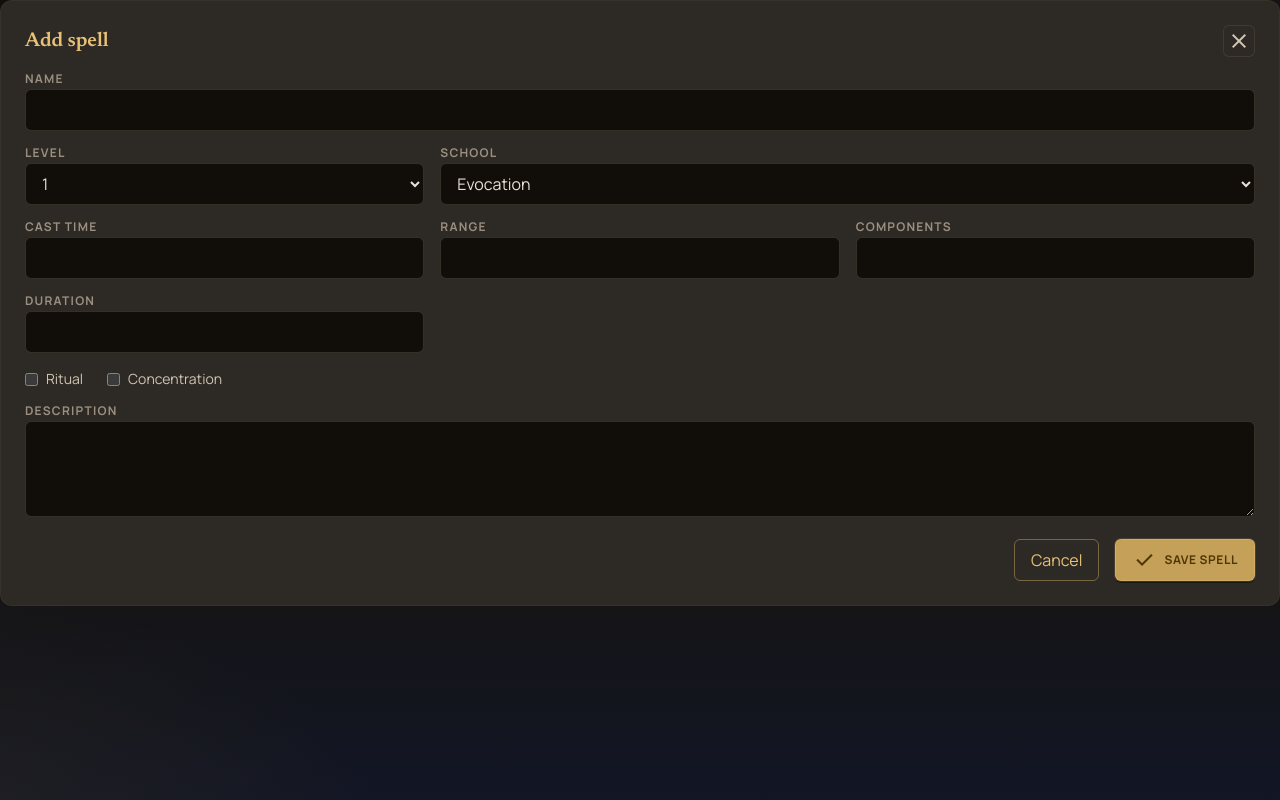
SpellForm › blocks a duplicate name with an inline message
Type "shield" into the field labelled "Name".
click(640, 110); type("shield")  # box [25, 89, 1255, 131]
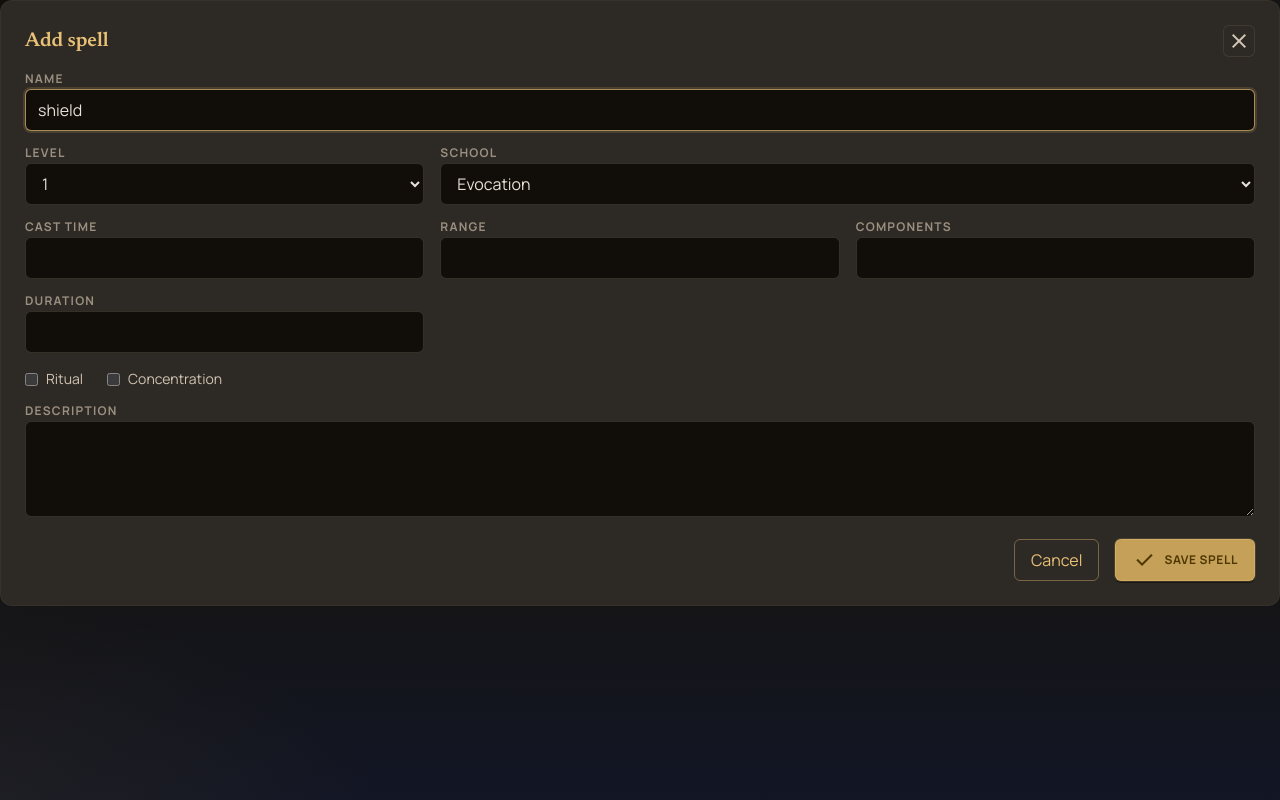
Click the button "Save spell".
click(1185, 560)  # box [1115, 539, 1255, 581]
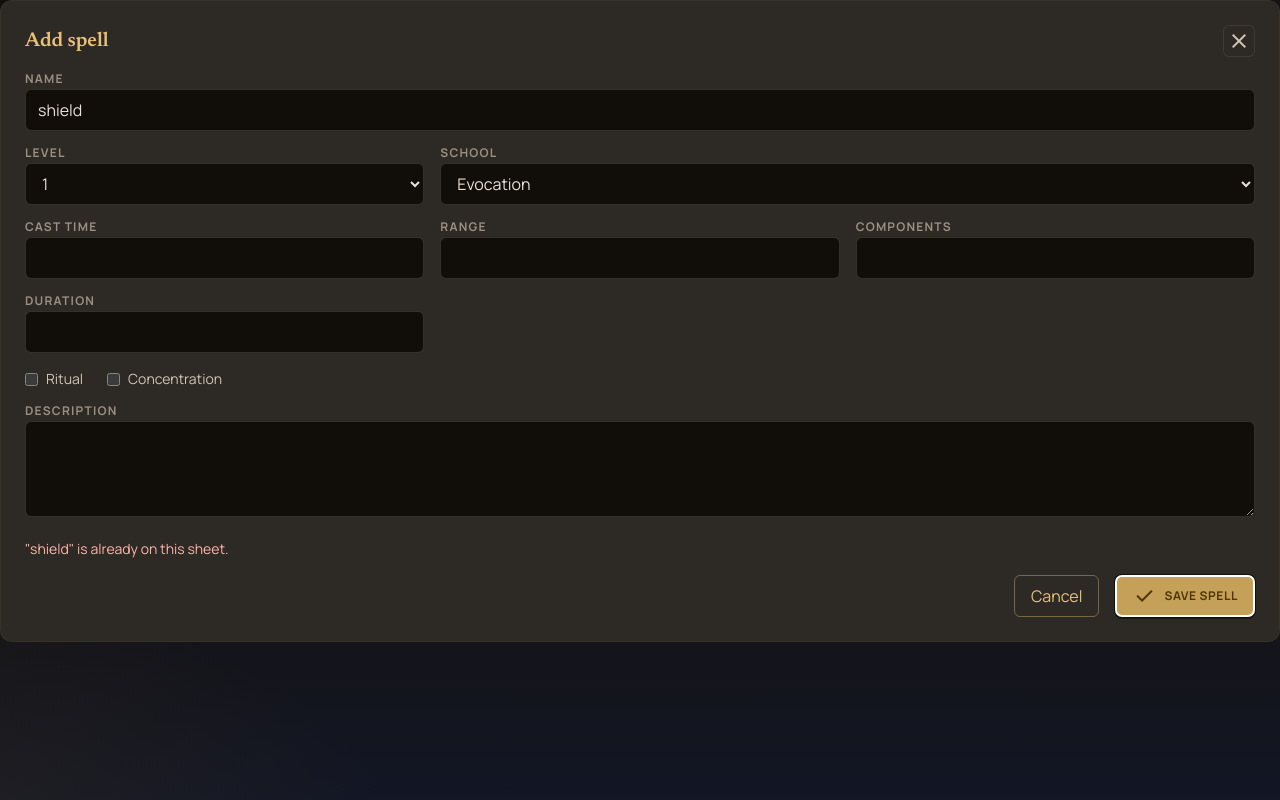
Result: the message shows "already on this sheet" at [25, 539, 229, 558]
